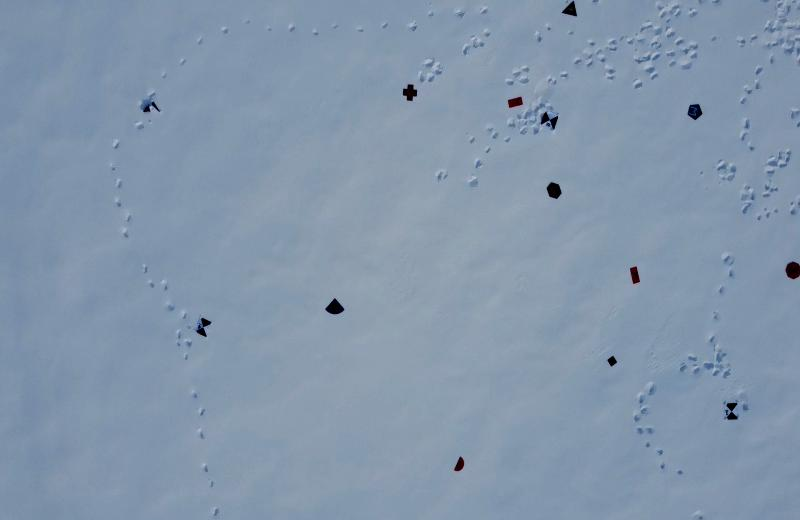Cross: (402, 83, 418, 101)
Hexagon: (546, 181, 562, 200)
Octagon: (785, 260, 800, 280)
Pentagon: (688, 101, 704, 122)
Quarter Circle: (324, 295, 345, 317)
Rectangle: (629, 265, 640, 285), (506, 94, 522, 107)
Semi Circle: (453, 456, 466, 472)
Square: (607, 355, 618, 367)
Triangle: (560, 1, 579, 18)
